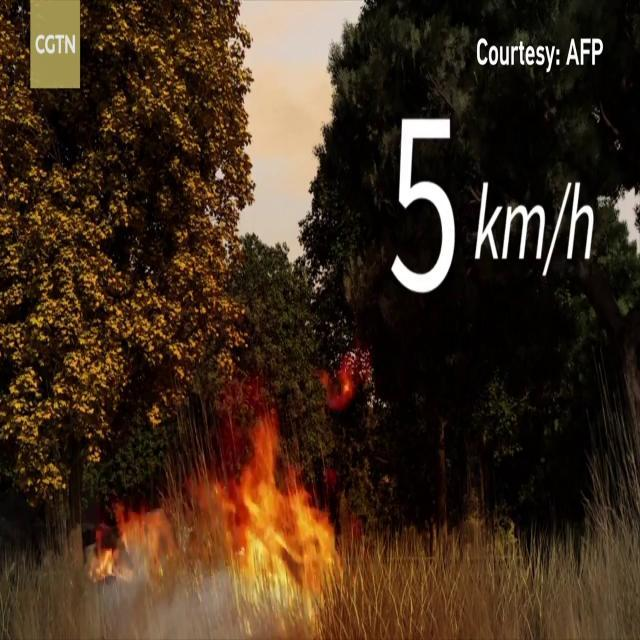Fire: (91, 396, 354, 626), (88, 499, 182, 586)
